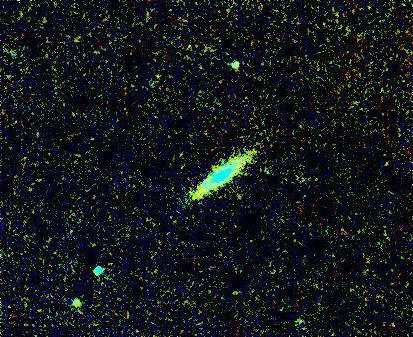star: (62, 286, 92, 316)
